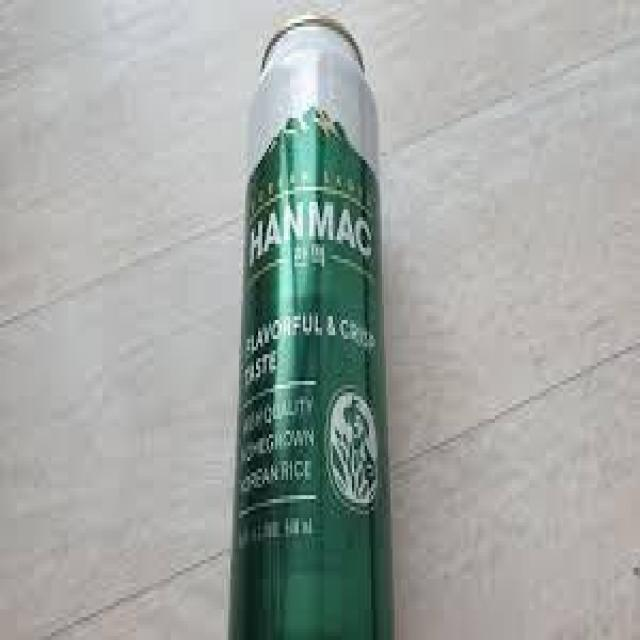beer-can: (220, 7, 399, 640)
